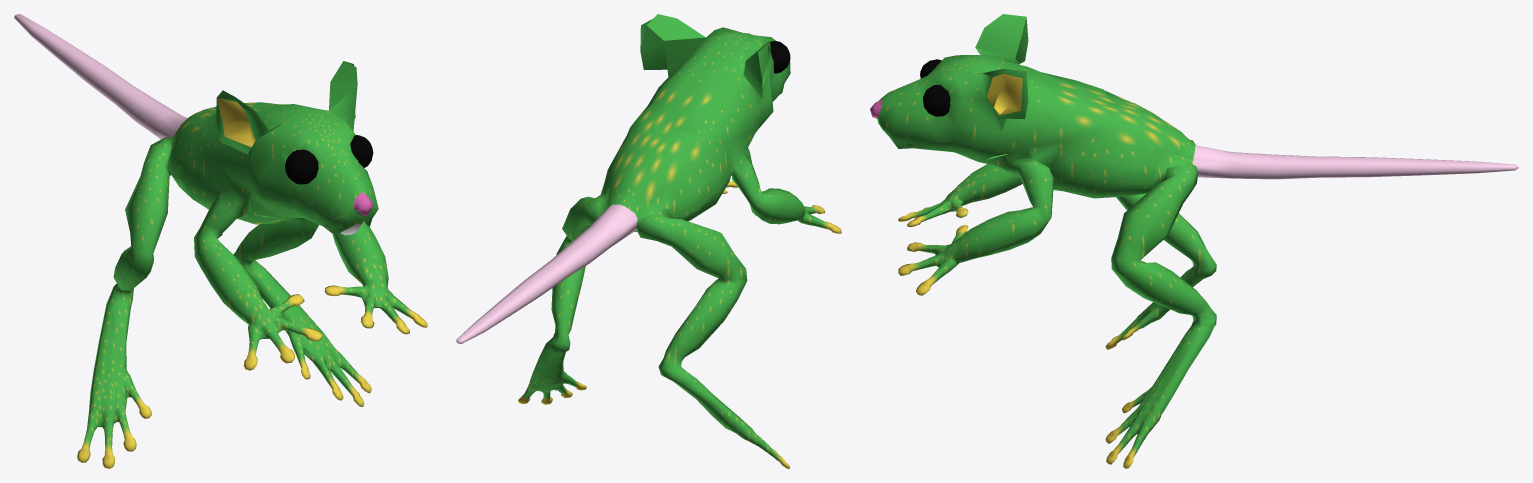
The model's file is Experimento.fbx.
3 views of the same model, side by side, from view 1: azimuth 30°, elevation 25°; view 2: azimuth 150°, elevation 25°; view 3: azimuth 270°, elevation 25° (orthographic). The views are drawn at different scales.
Parts seen in each view (by area): view 1: subdivision01, subdivision05, subdivision04; view 2: subdivision01, subdivision05; view 3: subdivision01, subdivision04.
Boxes of the visible parts, box(x1,y1,x2,y2) form: subdivision01: box(14, 14, 427, 468); subdivision05: box(285, 149, 318, 184); subdivision04: box(350, 135, 373, 167); subdivision01: box(456, 14, 841, 468); subdivision05: box(770, 40, 790, 73); subdivision01: box(870, 14, 1518, 468); subdivision04: box(923, 85, 950, 116).
Bounding box in the file's own units: 39.33 × 50.73 × 81.32.
2 materials, 1 textured.
